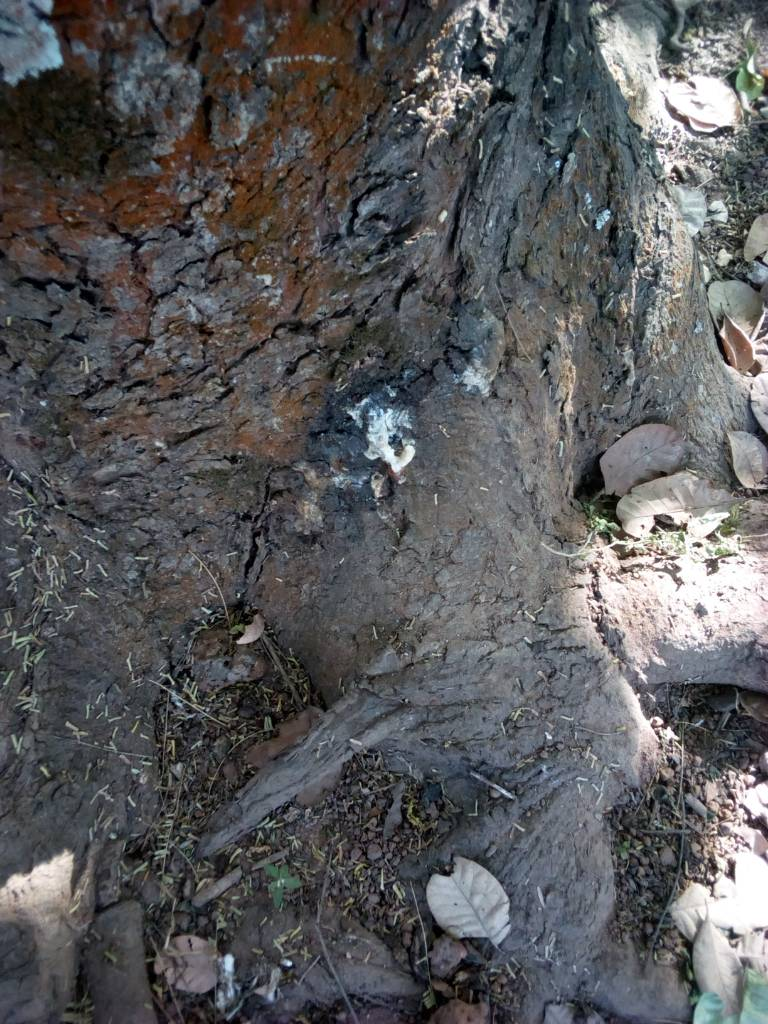Gommose: (293, 366, 432, 517)
